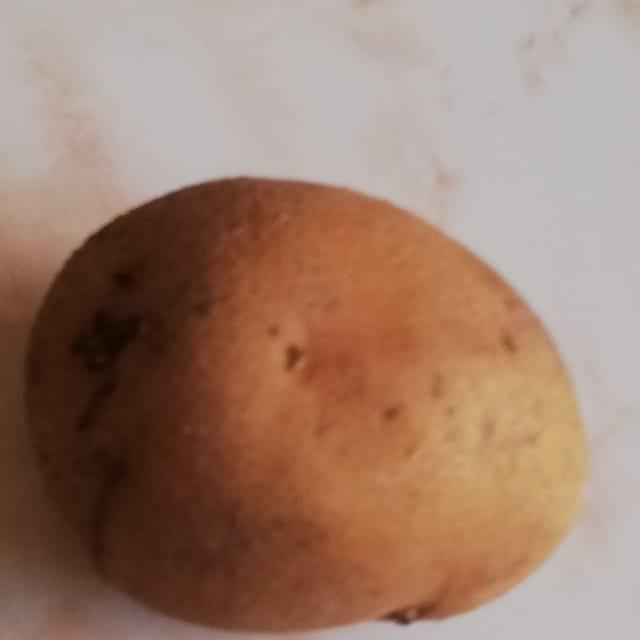potato: (8, 162, 608, 640)
